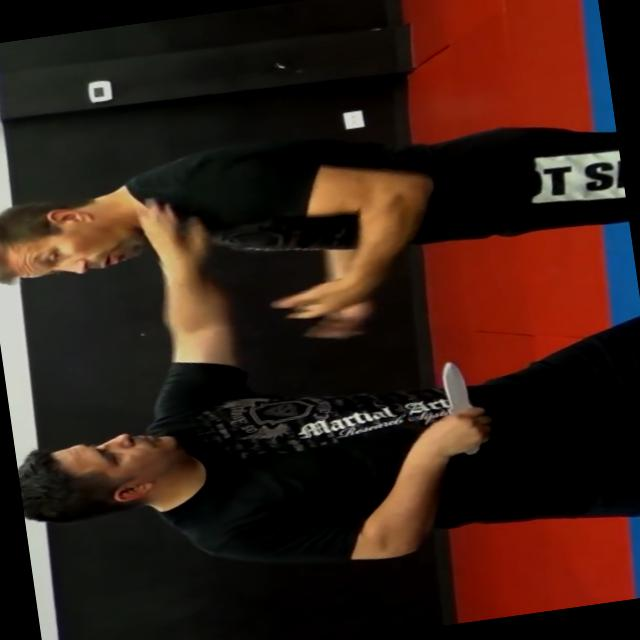knife: (429, 352, 498, 462)
